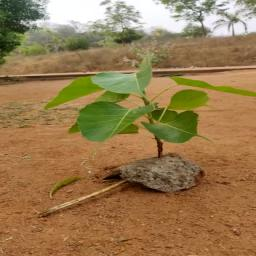LEAVS: (38, 53, 250, 144)
